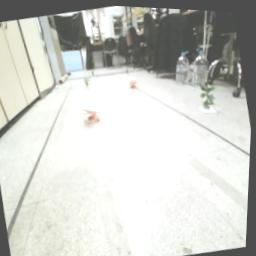herb: (199, 77, 221, 111), (85, 77, 92, 87)
wild: (83, 106, 104, 125), (129, 78, 141, 90)
